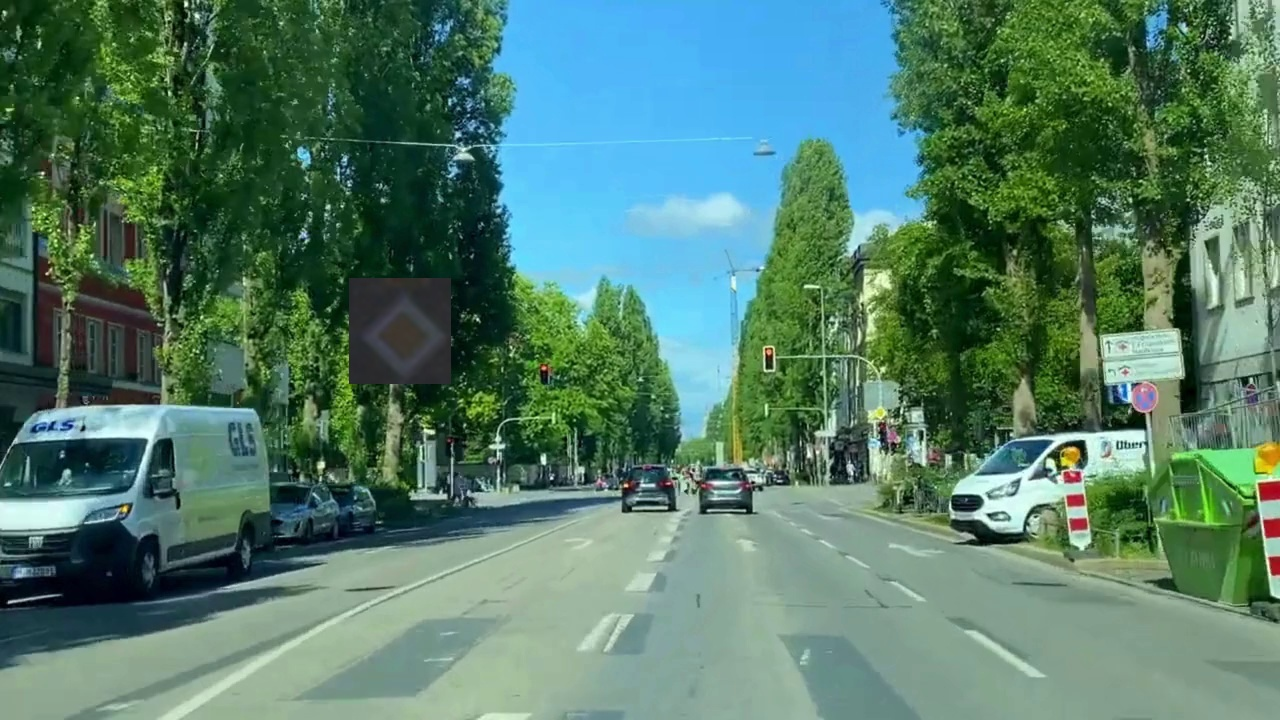Priority road: (349, 278, 451, 384)
